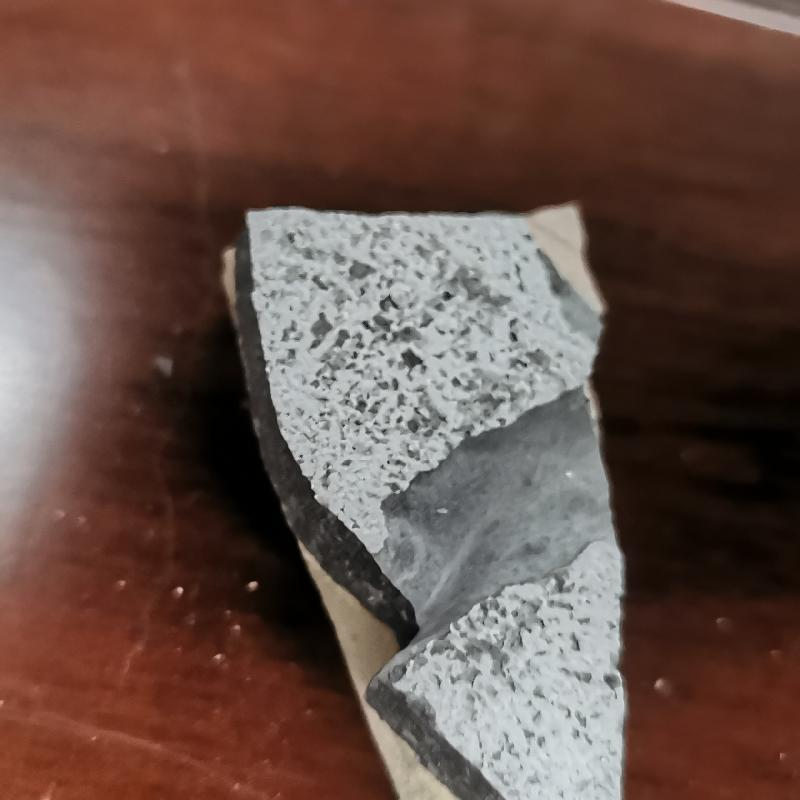tile: (214, 197, 633, 800)
